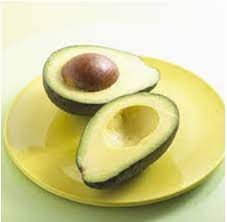avocado: (76, 92, 180, 189), (44, 44, 160, 112)
